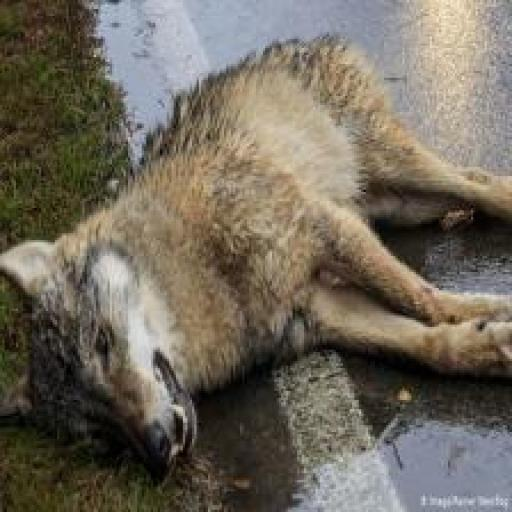wolf: (2, 34, 512, 471)
